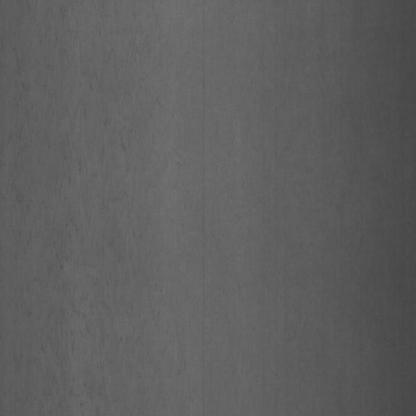silk_spot: (13, 13, 170, 392)
